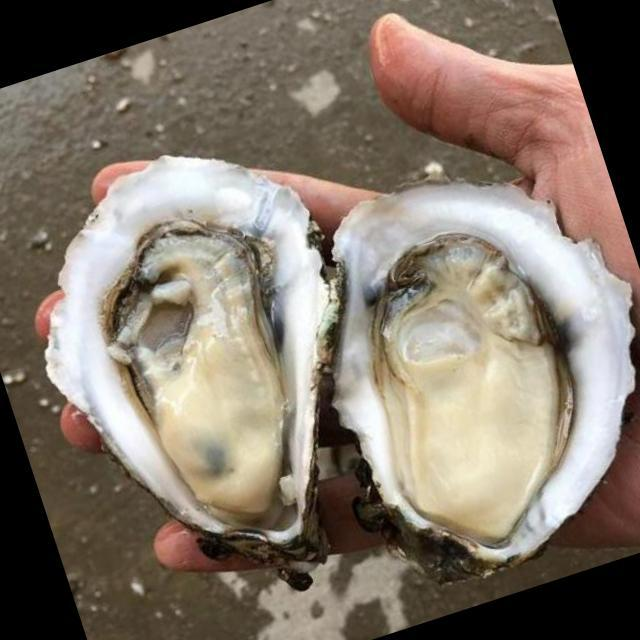Oyster-Open: (0, 114, 427, 640), (271, 125, 640, 605)
